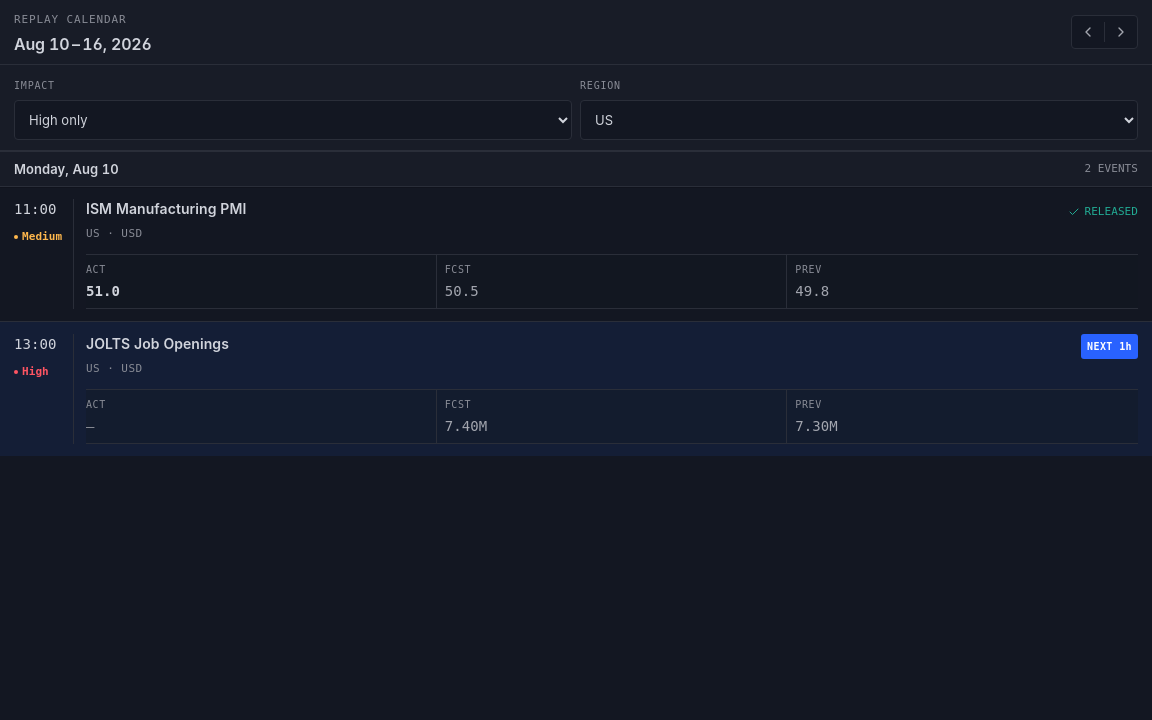
EconomicCalendarPanel › pages by server-provided week bounds while preserving the replay cursor
expect the heading "ISM Manufacturing PMI" is shown: met, box [86, 199, 246, 219]
Click the button named "Next calendar week".
click(1121, 32)  # box [1105, 16, 1137, 48]
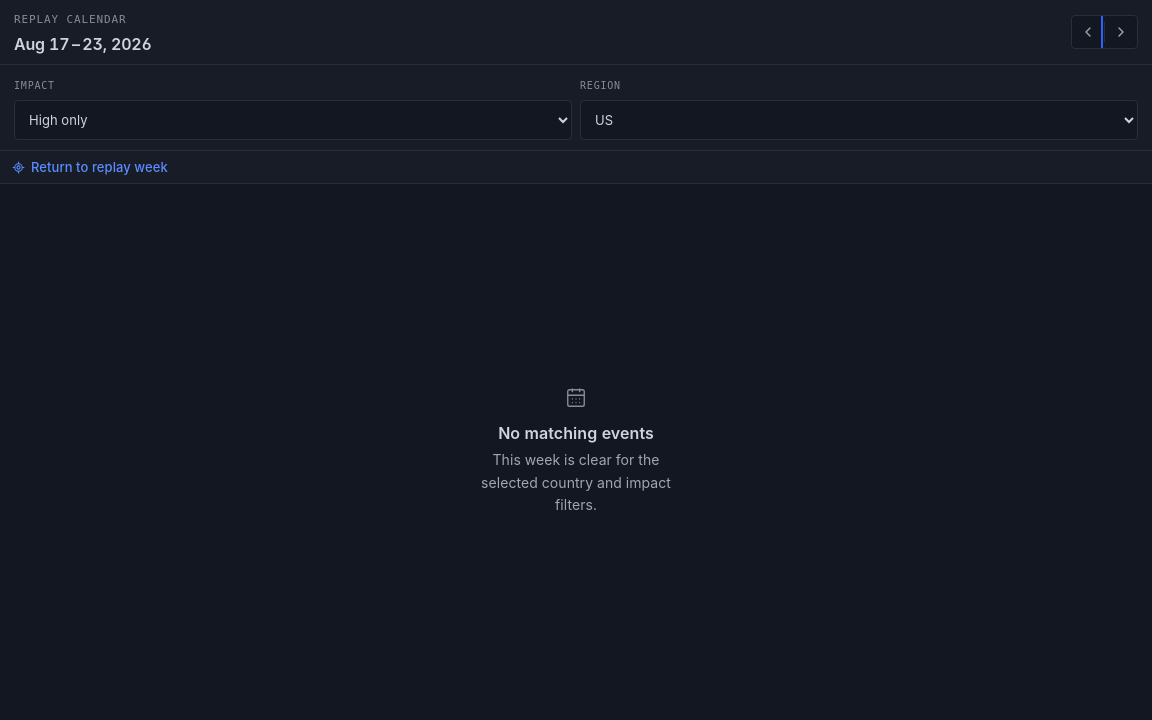
expect the button "Return to replay week" is shown: met, box [12, 151, 168, 183]
